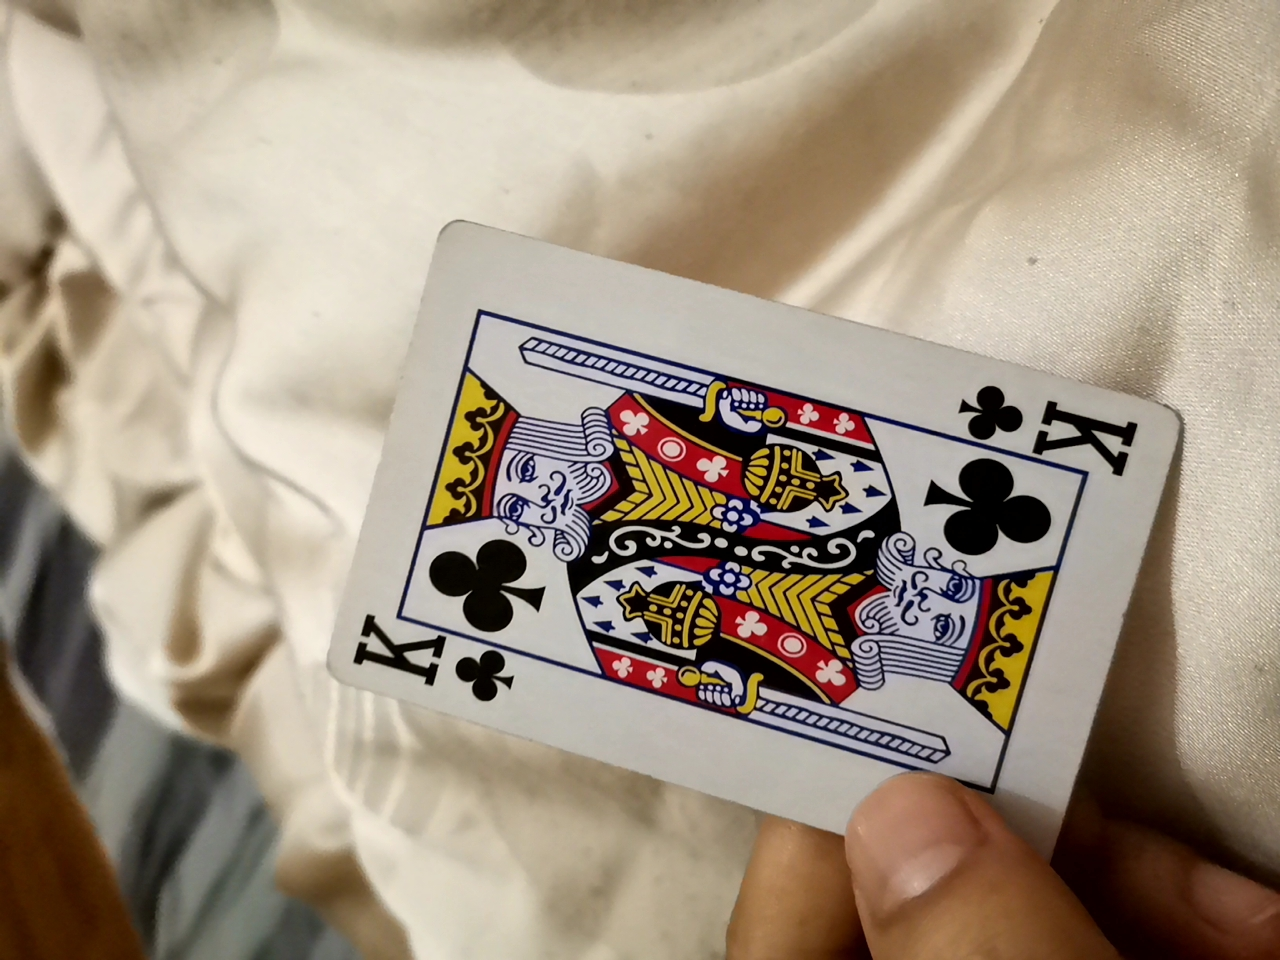mh k: (338, 221, 1186, 857)
